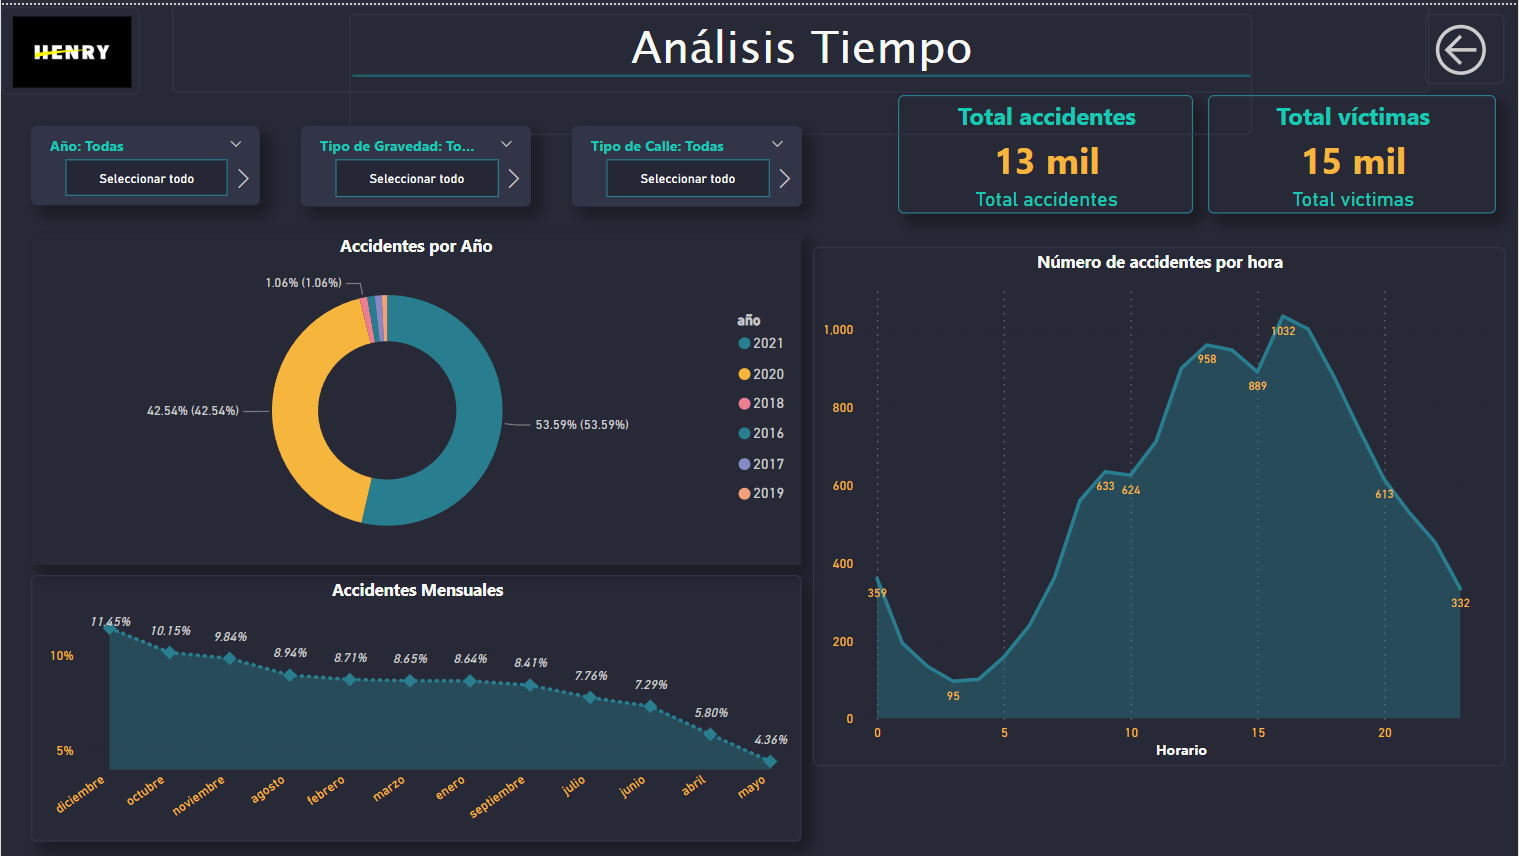

This screenshot's page, from the dashboard's own definition file:
{"tool":"powerbi","page":{"name":"Análisis Tiempo","canvas":[1280,720],"ordinal":3},"visuals":[{"type":"donutChart","title":"Accidentes por Año","fields":{"Category":["hechos.año"],"Y":["Divide(hechos.Total accidentes, ScopedEval(hechos.Total accidentes, []))"]},"box":[25.4,193.4,650.2,278.6],"z":0},{"type":"card","title":"Total accidentes","fields":{"Values":["hechos.Total accidentes"]},"box":[756.7,75.9,249,100.2],"z":1000},{"type":"slicer","fields":{"Values":["hechos.gravedad"]},"box":[253.5,101.9,193.6,67.5],"z":2000},{"type":"slicer","fields":{"Values":["hechos.año"]},"box":[25.4,101.8,193.4,67.4],"z":3000},{"type":"textbox","box":[144,0,1061.2,73.9],"z":4000},{"type":"shape","box":[293.7,7.8,761.6,102.1],"z":5000},{"type":"actionButton","box":[1201.1,7.6,67.4,58.5],"z":6000},{"type":"areaChart","title":"Accidentes Mensuales","fields":{"Category":["hechos.mes"],"Y":["Divide(CountNonNull(hechos.mes), ScopedEval(CountNonNull(hechos.mes), []))"]},"box":[25.4,481,650.2,225.2],"z":7000},{"type":"stackedAreaChart","title":"Número de accidentes por hora","fields":{"Category":["hechos.hh"],"Y":["CountNonNull(hechos.hh)"]},"box":[684.7,204.3,583.6,437.7],"z":8000},{"type":"card","title":"Total víctimas","fields":{"Values":["hechos.Total victimas"]},"box":[1018.4,75.9,243.2,100.2],"z":9000},{"type":"slicer","fields":{"Values":["hechos.tipo_calle"]},"box":[481.4,101.9,193.6,67.5],"z":10000},{"type":"image","box":[0,1.8,116.8,73.8],"z":11000}]}

Visuals, with their boxes in screenshot pixels (x1, y1, x2, y2), scaled from the page's 1280x720 canvas onto the 1519x856 screenshot:
"Accidentes por Año" donutChart: 30 230 802 561
"Total accidentes" card: 898 90 1193 209
slicer - hechos.gravedad: 301 121 531 201
slicer - hechos.año: 30 121 260 201
textbox: 171 0 1430 88
shape: 349 9 1252 131
actionButton: 1425 9 1505 79
"Accidentes Mensuales" areaChart: 30 572 802 840
"Número de accidentes por hora" stackedAreaChart: 813 243 1505 763
"Total víctimas" card: 1209 90 1497 209
slicer - hechos.tipo_calle: 571 121 801 201
image: 0 2 139 90
